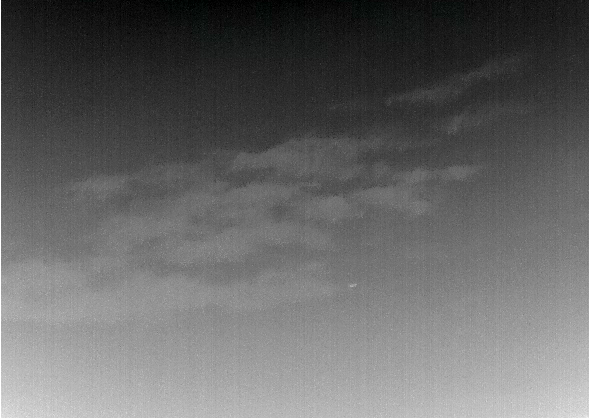dim target: (349, 283, 358, 288)
